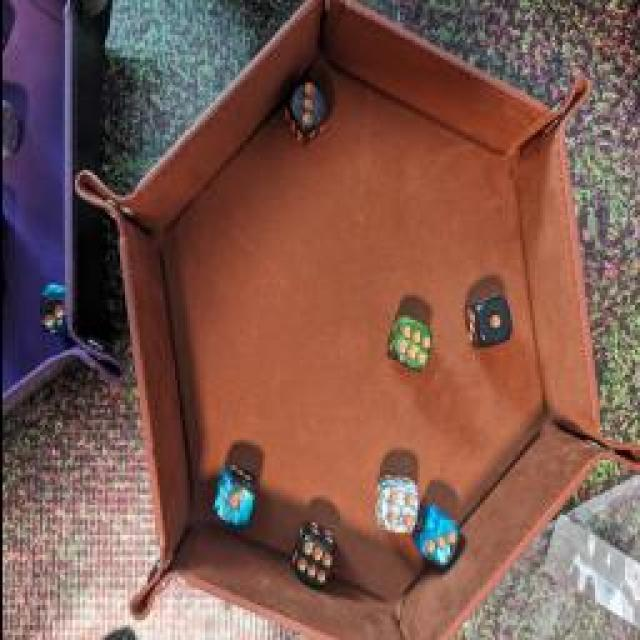dice_1: (456, 292, 516, 352), (210, 461, 260, 531)
dice_3: (282, 69, 332, 146), (408, 504, 462, 568), (30, 281, 75, 339)
dice_4: (369, 472, 419, 536)
dice_6: (380, 311, 435, 379), (286, 518, 336, 592)
